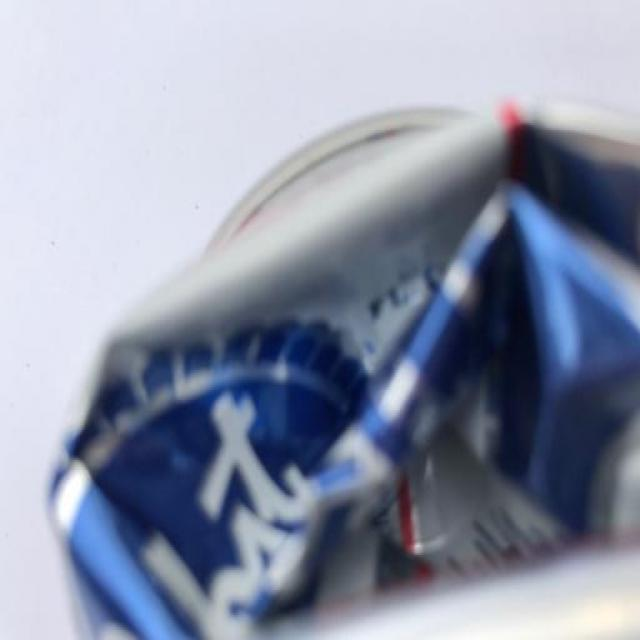metel: (22, 46, 640, 640)
